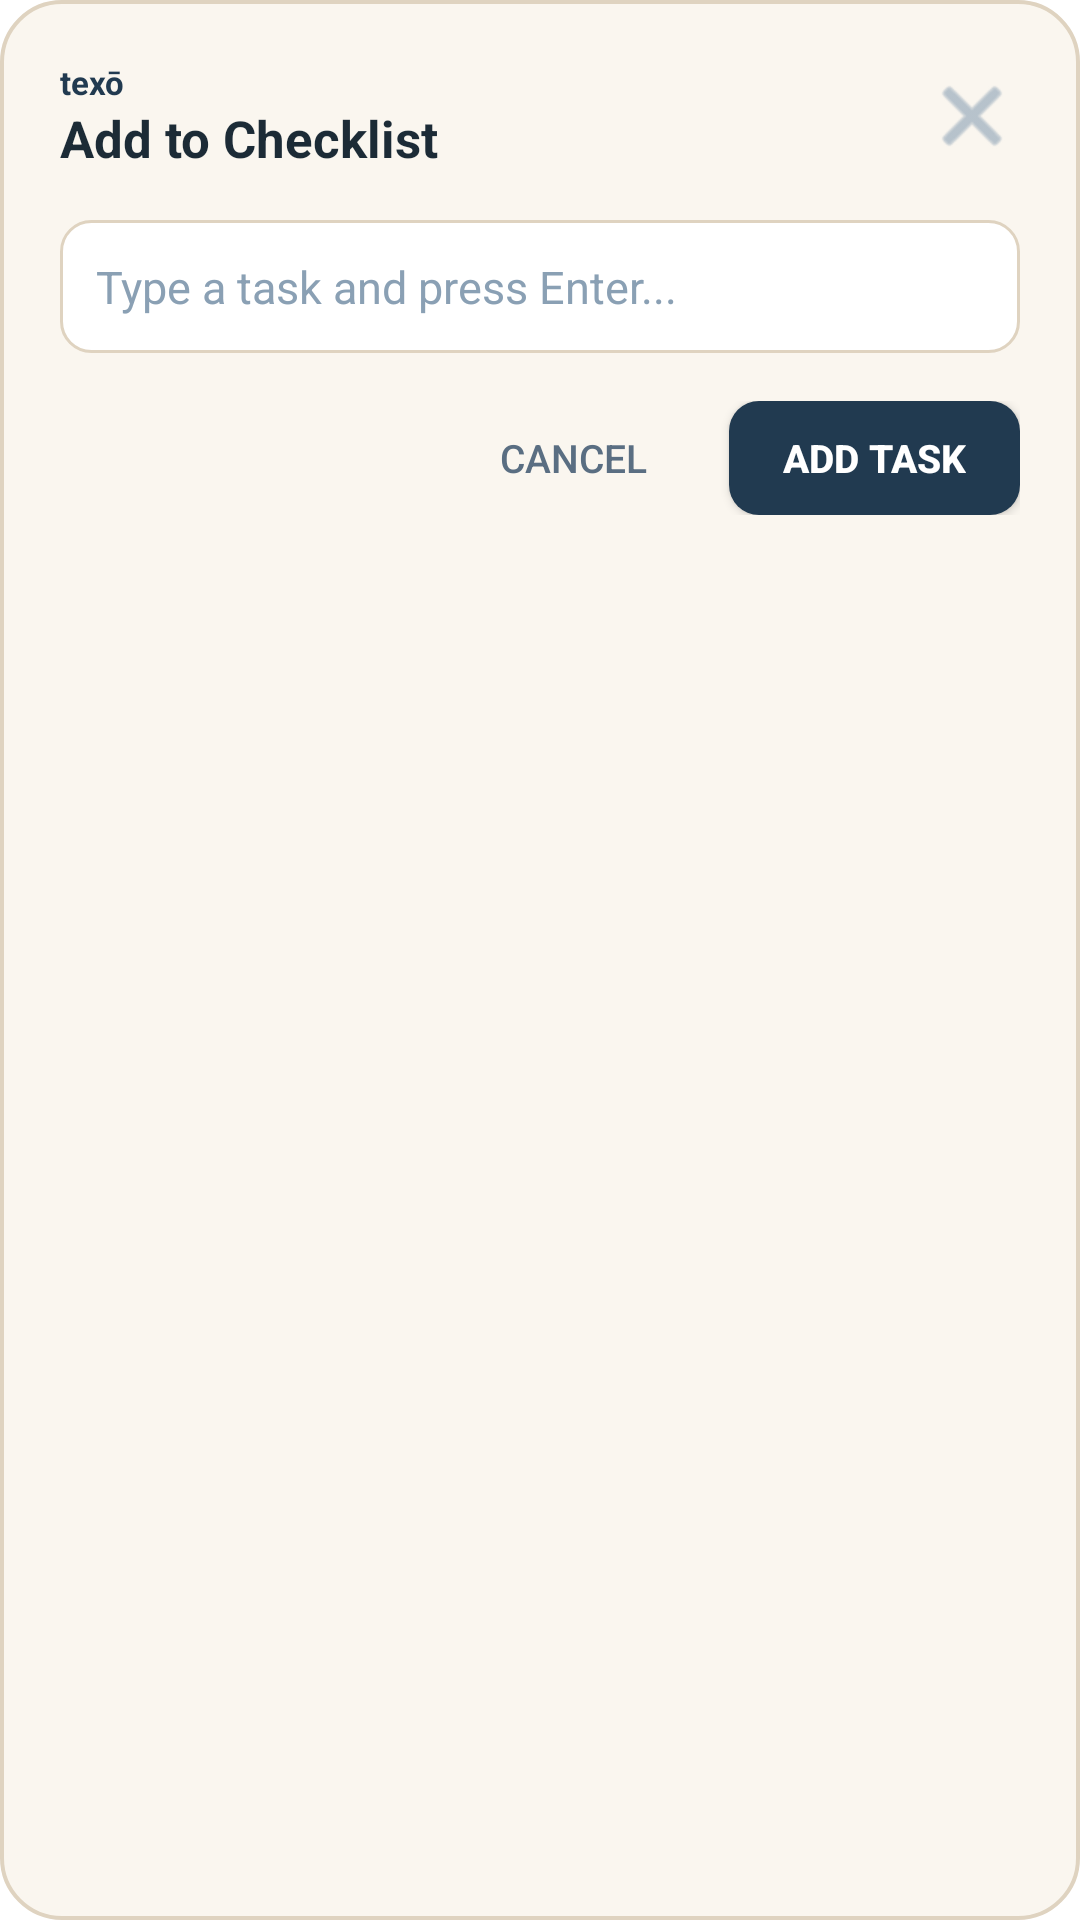

Icon click points for this 1080px x 1920px phone screenshot, format (x,y):
Close: (972,116)
